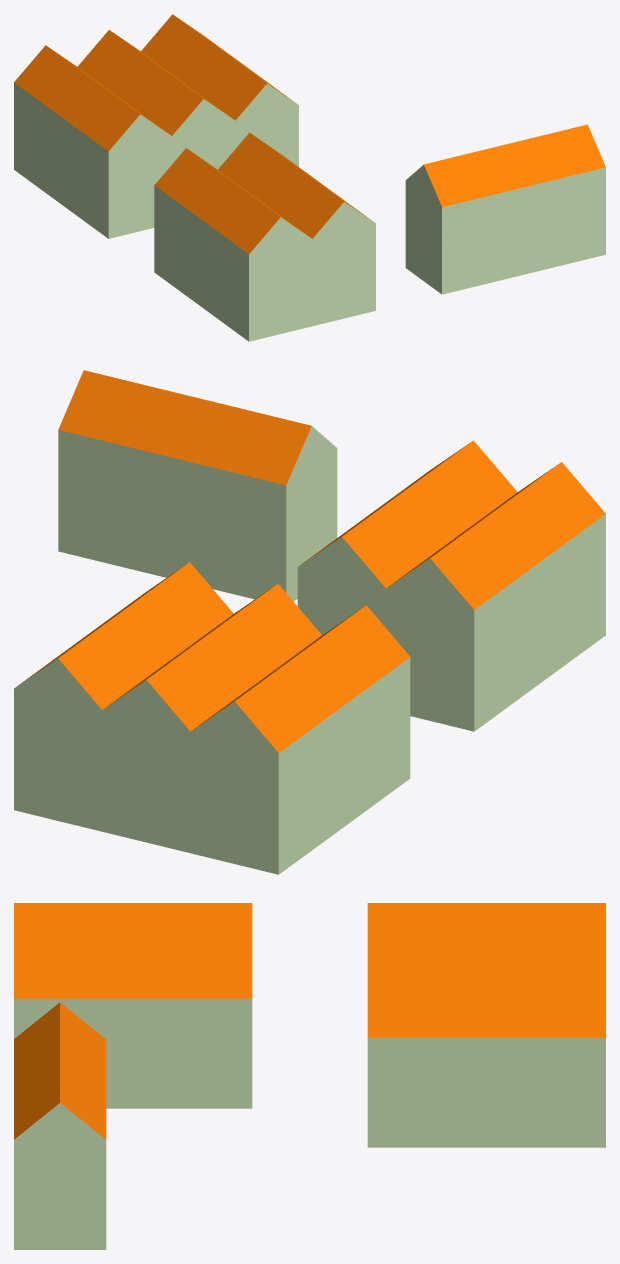
The model's file is 6housesBuildings.obj.
3 views of the same model, one above another, from view 1: azimuth 30°, elevation 25°; view 2: azimuth 150°, elevation 25°; view 3: azimuth 270°, elevation 25° (orthographic). The views are drawn at different scales.
Visible parts, largest first — view 1: Mesh5 Component_1_3 Group4 Group1 Model, Mesh1 Component_1_1 Group2 Group1 Model, Mesh12 Component_1_6 Group7 Group1 Model, Mesh7 Component_1_4 Group5 Group1 Model, Mesh3 Component_1_2 Group3 Group1 Model, Mesh6 Component3 Group4 Group1 Model, Mesh9 Component_1_5 Group6 Group1 Model, Mesh2 Component1 Group2 Group1 Model, Mesh11 Component6 Group7 Group1 Model, Mesh8 Component4 Group5 Group1 Model; view 2: Mesh5 Component_1_3 Group4 Group1 Model, Mesh12 Component_1_6 Group7 Group1 Model, Mesh1 Component_1_1 Group2 Group1 Model, Mesh3 Component_1_2 Group3 Group1 Model, Mesh9 Component_1_5 Group6 Group1 Model, Mesh7 Component_1_4 Group5 Group1 Model, Mesh6 Component3 Group4 Group1 Model, Mesh11 Component6 Group7 Group1 Model, Mesh2 Component1 Group2 Group1 Model, Mesh4 Component2 Group3 Group1 Model, Mesh10 Component5 Group6 Group1 Model; view 3: Mesh3 Component_1_2 Group3 Group1 Model, Mesh7 Component_1_4 Group5 Group1 Model, Mesh5 Component_1_3 Group4 Group1 Model, Mesh4 Component2 Group3 Group1 Model, Mesh1 Component_1_1 Group2 Group1 Model, Mesh9 Component_1_5 Group6 Group1 Model, Mesh12 Component_1_6 Group7 Group1 Model, Mesh8 Component4 Group5 Group1 Model, Mesh6 Component3 Group4 Group1 Model.
Boxes of the visible parts, x1,y1,x2,y2 form: Mesh5 Component_1_3 Group4 Group1 Model: (405,124,605,250); Mesh1 Component_1_1 Group2 Group1 Model: (154,148,312,297); Mesh12 Component_1_6 Group7 Group1 Model: (14,45,171,195); Mesh7 Component_1_4 Group5 Group1 Model: (218,132,375,282); Mesh3 Component_1_2 Group3 Group1 Model: (141,14,298,153); Mesh6 Component3 Group4 Group1 Model: (405,211,605,294); Mesh9 Component_1_5 Group6 Group1 Model: (77,30,235,168); Mesh2 Component1 Group2 Group1 Model: (154,229,312,341); Mesh11 Component6 Group7 Group1 Model: (14,126,154,238); Mesh8 Component4 Group5 Group1 Model: (312,267,375,325); Mesh5 Component_1_3 Group4 Group1 Model: (58,370,337,546); Mesh12 Component_1_6 Group7 Group1 Model: (190,605,410,813); Mesh1 Component_1_1 Group2 Group1 Model: (386,462,605,670); Mesh3 Component_1_2 Group3 Group1 Model: (14,562,233,770); Mesh9 Component_1_5 Group6 Group1 Model: (102,584,321,792); Mesh7 Component_1_4 Group5 Group1 Model: (297,440,517,633); Mesh6 Component3 Group4 Group1 Model: (58,490,337,601); Mesh11 Component6 Group7 Group1 Model: (190,718,410,874); Mesh2 Component1 Group2 Group1 Model: (409,575,605,731); Mesh4 Component2 Group3 Group1 Model: (14,749,102,831); Mesh10 Component5 Group6 Group1 Model: (102,771,190,853); Mesh3 Component_1_2 Group3 Group1 Model: (367,981,605,1092); Mesh7 Component_1_4 Group5 Group1 Model: (14,942,252,1053); Mesh5 Component_1_3 Group4 Group1 Model: (14,1002,106,1194); Mesh4 Component2 Group3 Group1 Model: (367,1092,605,1147); Mesh1 Component_1_1 Group2 Group1 Model: (14,903,252,941); Mesh9 Component_1_5 Group6 Group1 Model: (367,942,605,980); Mesh12 Component_1_6 Group7 Group1 Model: (367,903,605,941); Mesh8 Component4 Group5 Group1 Model: (106,1053,252,1108); Mesh6 Component3 Group4 Group1 Model: (14,1195,106,1249).
Bounding box in the file's own units: 13476 × 4217 × 15373.
